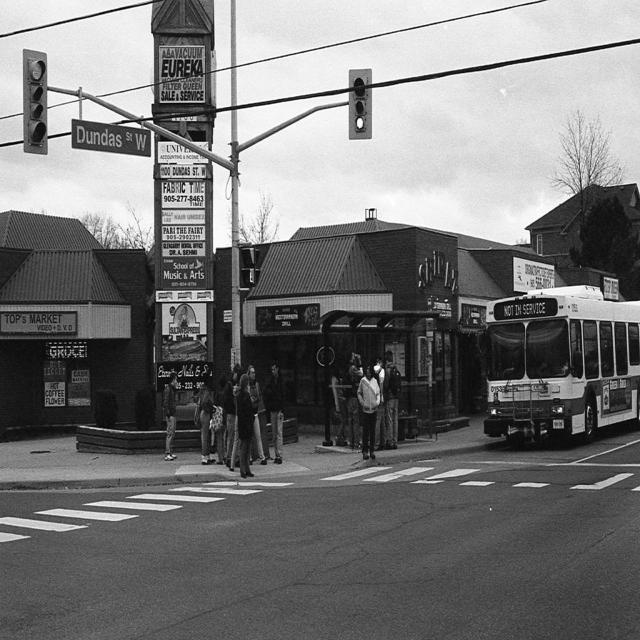Buses: (483, 292, 640, 452)
